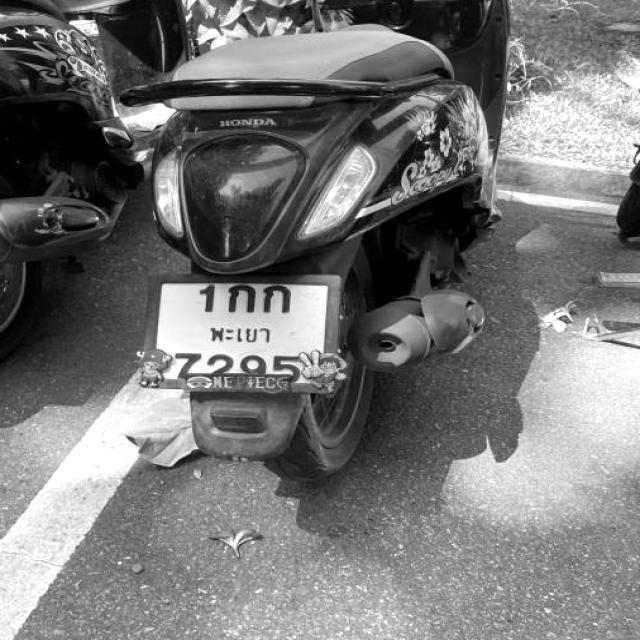letters: (182, 279, 224, 316), (226, 277, 258, 315), (262, 276, 292, 310), (202, 352, 232, 380), (244, 354, 269, 384), (274, 356, 298, 386), (170, 348, 192, 376)
license-plate: (147, 276, 339, 390)
province: (199, 314, 284, 348)
